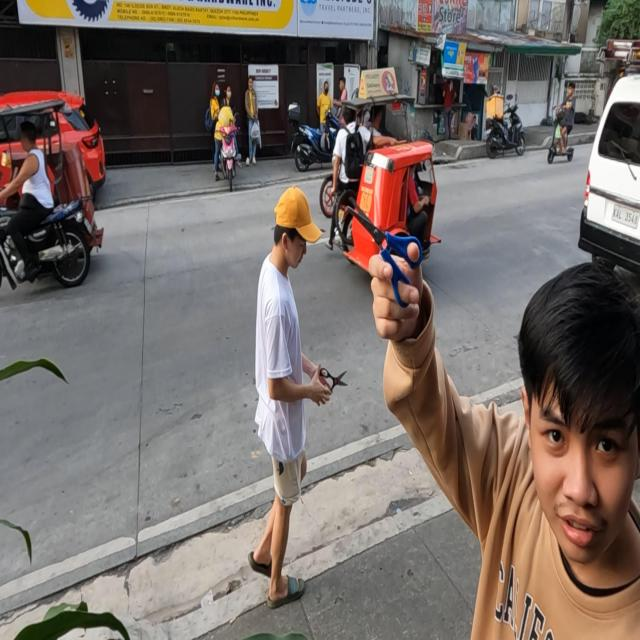scissor: (346, 195, 424, 308), (319, 366, 349, 402)
